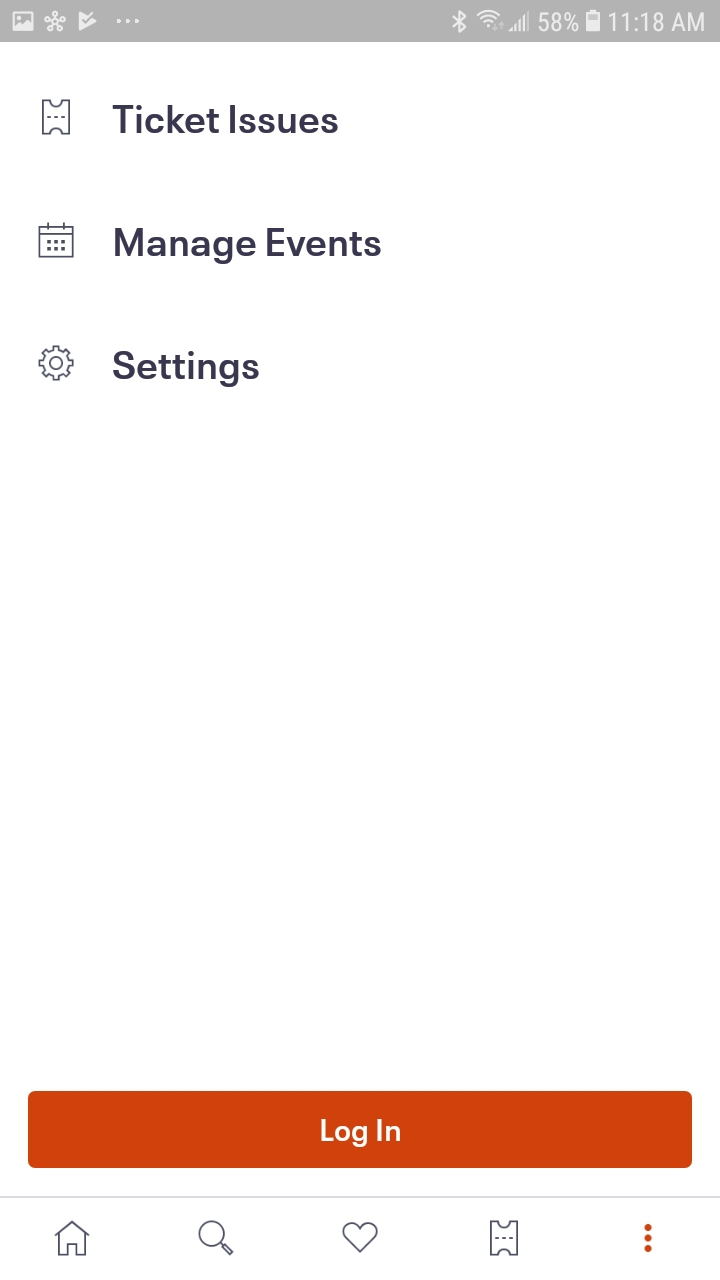Icon: (38, 222, 75, 259), (38, 345, 75, 382), (198, 1219, 235, 1256), (55, 1220, 91, 1257), (342, 1221, 379, 1254), (489, 1220, 519, 1257), (43, 99, 72, 136), (643, 1223, 653, 1253)
Text: (116, 227, 382, 265), (113, 105, 339, 135), (113, 350, 260, 388)
TextButton: (28, 1091, 692, 1169)
UpperTaskBar: (1, 1, 720, 43)
